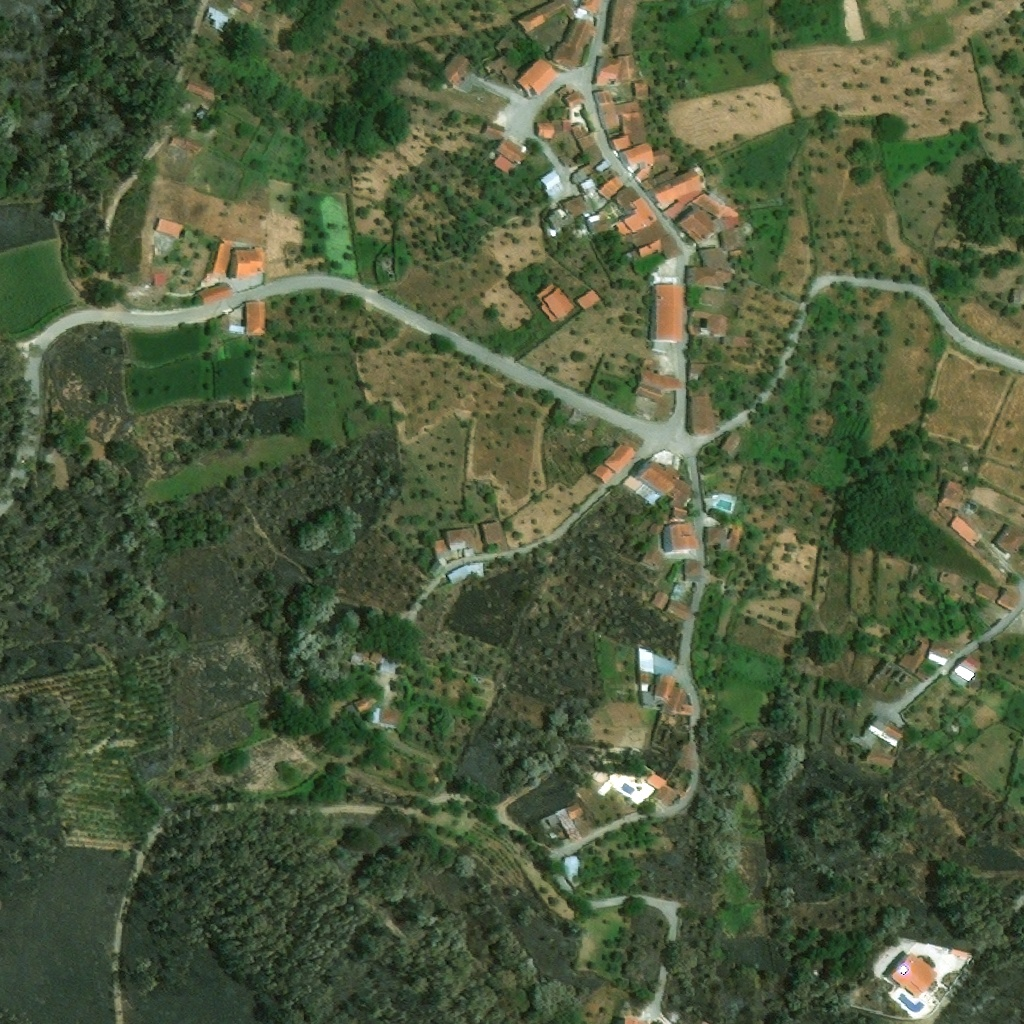0 no-damage: (612, 186, 681, 259), (635, 455, 697, 521), (649, 167, 708, 219), (620, 141, 676, 191), (693, 192, 742, 246), (687, 361, 721, 434), (592, 88, 644, 135), (851, 712, 907, 753), (551, 17, 596, 68), (890, 951, 939, 997), (637, 648, 675, 706), (635, 357, 683, 401), (650, 282, 684, 343), (516, 0, 576, 34), (686, 247, 734, 288), (516, 57, 559, 98), (535, 279, 575, 323), (567, 120, 602, 163), (677, 207, 717, 244), (895, 631, 929, 674), (605, 0, 639, 42), (440, 51, 474, 87), (621, 474, 660, 505), (661, 522, 699, 553), (445, 525, 484, 554), (593, 56, 632, 85), (231, 246, 265, 278), (948, 514, 983, 545), (602, 442, 637, 473), (690, 307, 727, 336), (484, 54, 519, 84), (950, 653, 981, 686), (480, 517, 509, 552), (205, 4, 237, 34), (446, 560, 484, 584), (496, 136, 528, 164), (195, 281, 233, 304), (938, 479, 966, 509), (720, 427, 747, 457), (370, 705, 405, 728), (700, 288, 742, 307), (995, 524, 1023, 552), (212, 239, 232, 277), (567, 408, 600, 431), (546, 206, 573, 234), (538, 169, 564, 197), (666, 596, 694, 621), (370, 649, 398, 673), (154, 216, 184, 238), (866, 747, 897, 768), (598, 175, 624, 200), (246, 301, 265, 334), (997, 586, 1022, 611), (563, 194, 590, 217), (575, 287, 600, 311), (639, 543, 663, 567), (705, 524, 728, 549), (927, 641, 952, 663), (353, 692, 379, 713), (975, 580, 998, 602), (591, 463, 615, 484), (684, 559, 706, 579), (649, 587, 669, 609), (721, 334, 753, 347), (428, 557, 447, 578), (535, 120, 556, 138), (494, 35, 513, 54), (482, 122, 506, 137), (939, 568, 960, 585), (610, 134, 631, 151), (564, 90, 584, 107), (728, 523, 741, 548), (349, 650, 367, 666), (631, 80, 649, 96), (571, 167, 587, 184), (614, 41, 634, 54), (557, 84, 574, 99), (628, 129, 645, 144), (579, 177, 597, 191), (948, 948, 973, 958), (594, 158, 610, 173), (670, 583, 684, 599), (432, 539, 446, 554), (153, 272, 164, 285), (607, 445, 615, 453)
2 major-damage: (653, 673, 695, 740), (541, 808, 582, 841), (563, 853, 585, 887), (566, 800, 585, 819)
3 destroyed: (645, 758, 695, 806), (618, 782, 651, 807)
4 un-classified: (579, 0, 604, 13), (566, 186, 579, 197), (671, 1012, 682, 1022)
